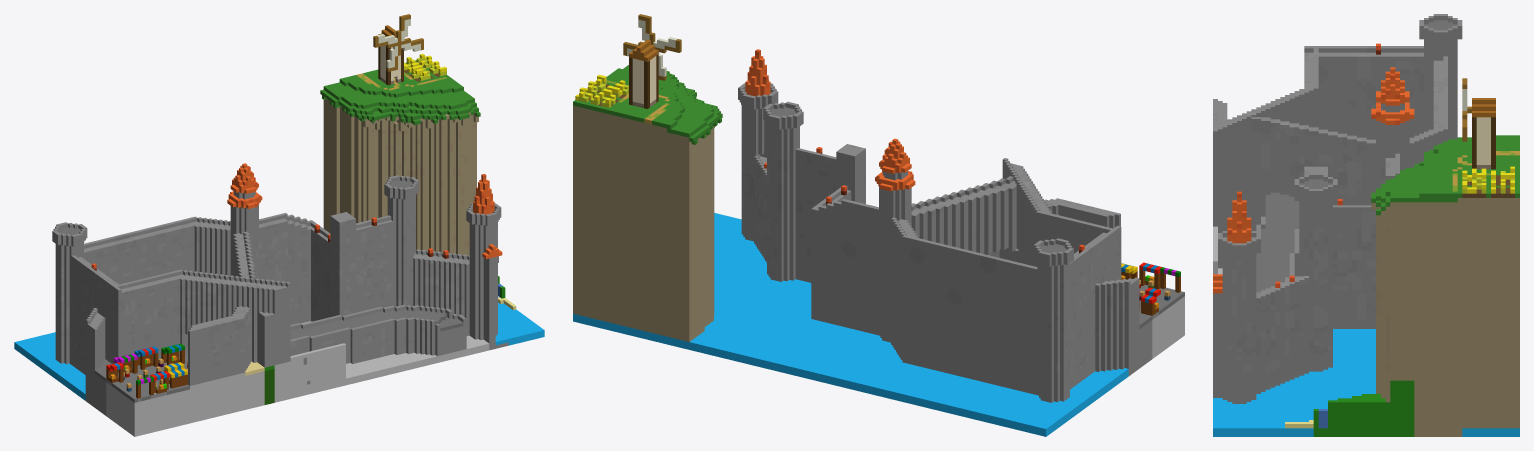
File: castle-0.obj
The picture shows the model from 3 angles, left to right: view 1: azimuth 30°, elevation 25°; view 2: azimuth 150°, elevation 25°; view 3: azimuth 270°, elevation 25°; orthographic projection. The views are drawn at different scales.
Bounding box in the file's own units: 12.6 × 7.6 × 6.4.
1 material, 1 textured.
